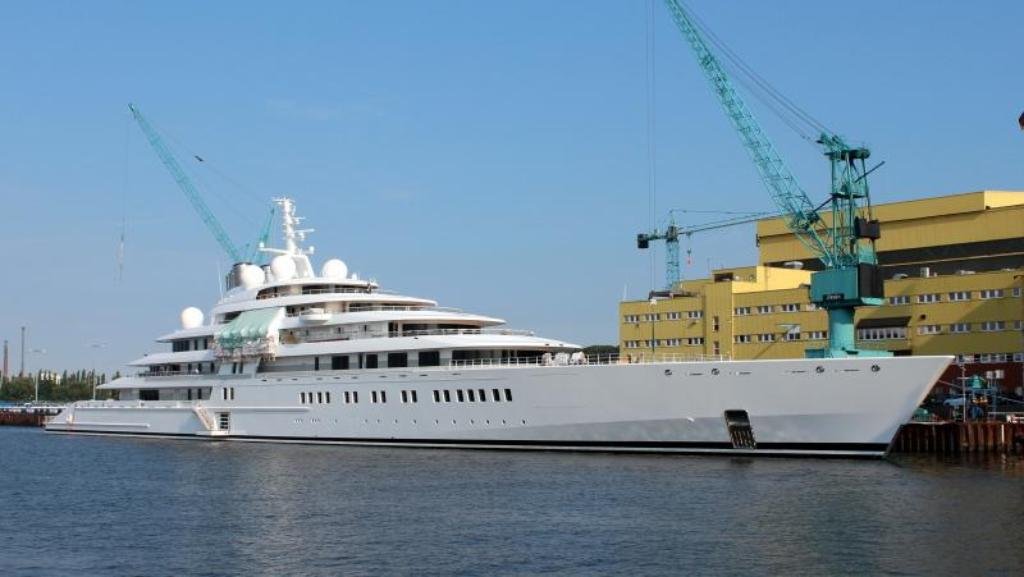PassengerShip: (34, 192, 960, 466)
